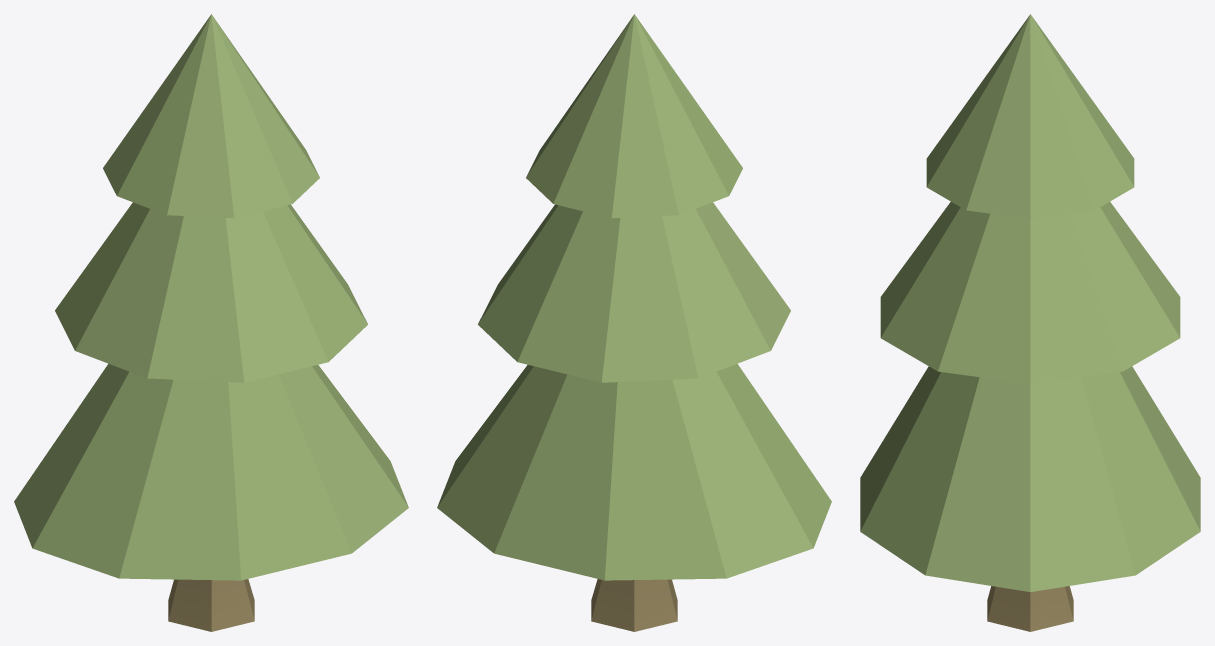
Rendered from forest_tree.fbx.
The picture shows the model from 3 angles, left to right: view 1: azimuth 30°, elevation 25°; view 2: azimuth 150°, elevation 25°; view 3: azimuth 270°, elevation 25°; orthographic projection.
Parts seen in each view (by area): view 1: pCylinder5; view 2: pCylinder5; view 3: pCylinder5.
Part boxes in pixels (box(x1,y1,x2,y2)): pCylinder5: box(14, 14, 408, 631); pCylinder5: box(437, 14, 831, 631); pCylinder5: box(860, 14, 1200, 631).
Bounding box in the file's own units: 2.31 × 3.68 × 1.9.
